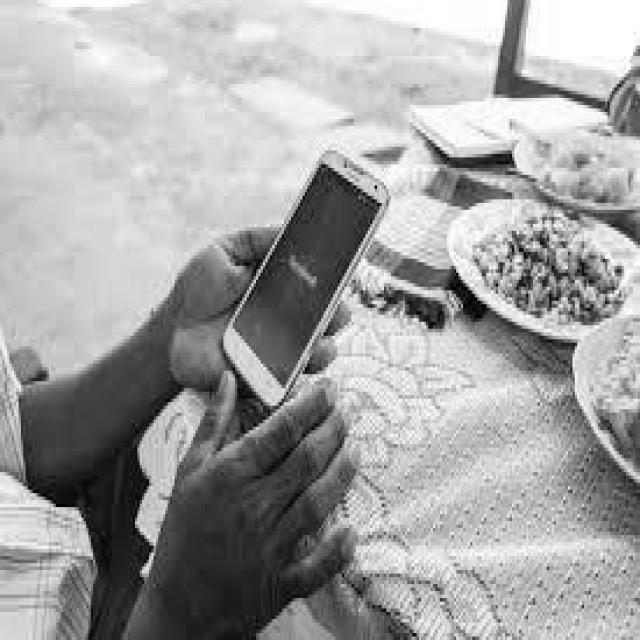No gun_phone: (222, 152, 392, 414)
